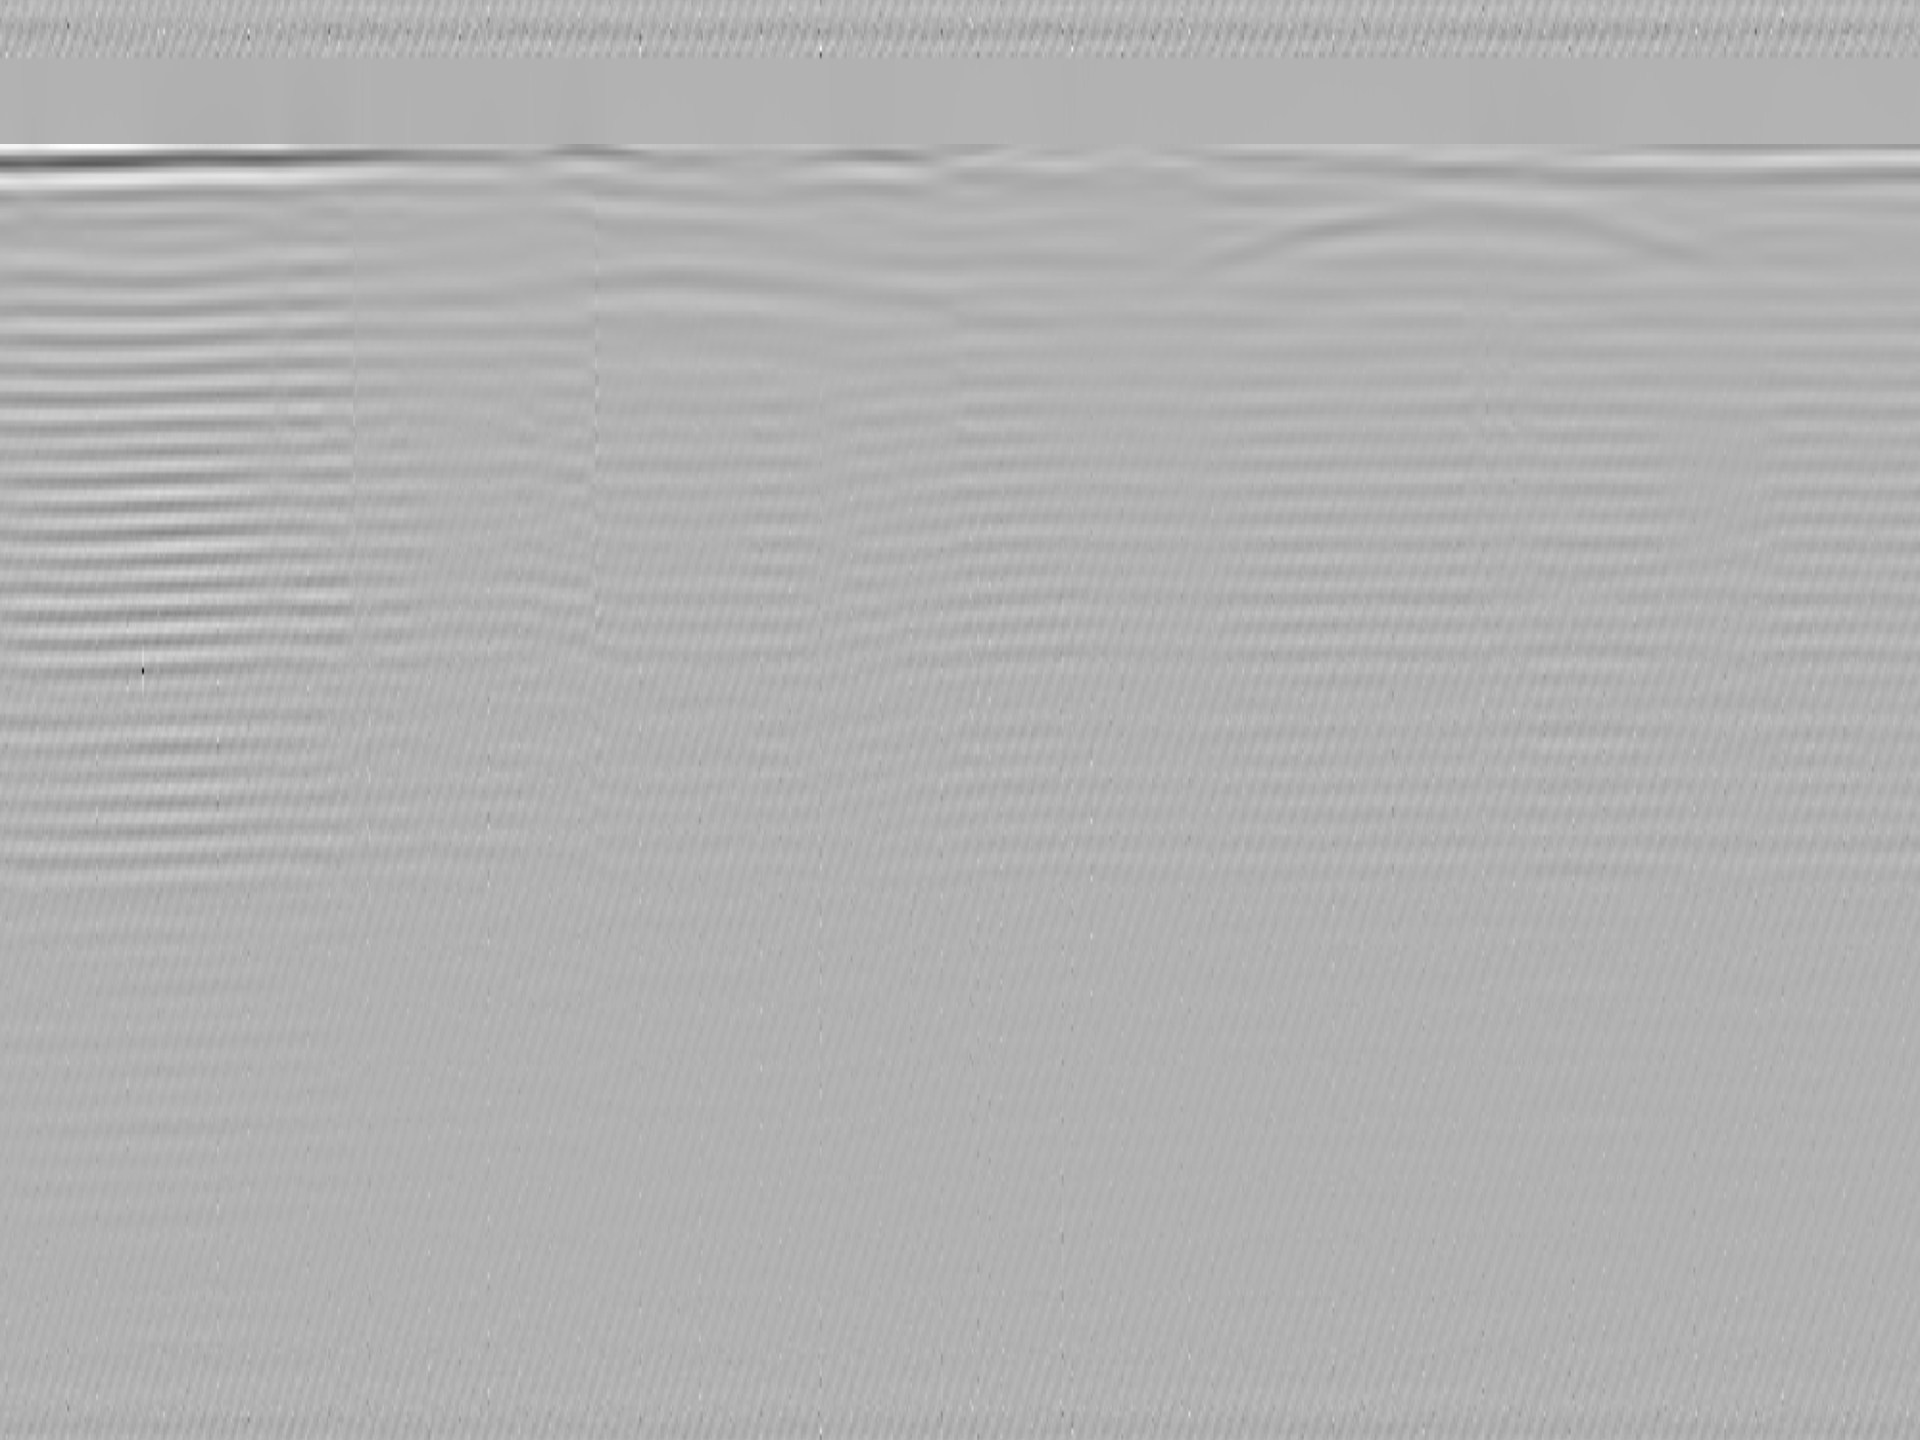Tunnel: (488, 227, 960, 337)
